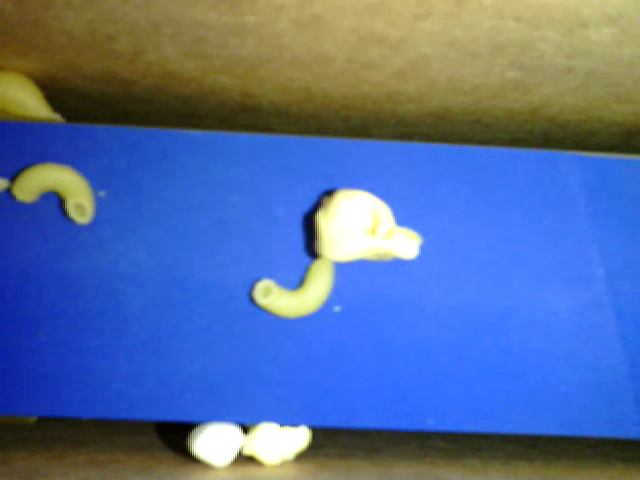elbow: (252, 258, 341, 319), (12, 163, 98, 223)
shell: (1, 67, 66, 125)
